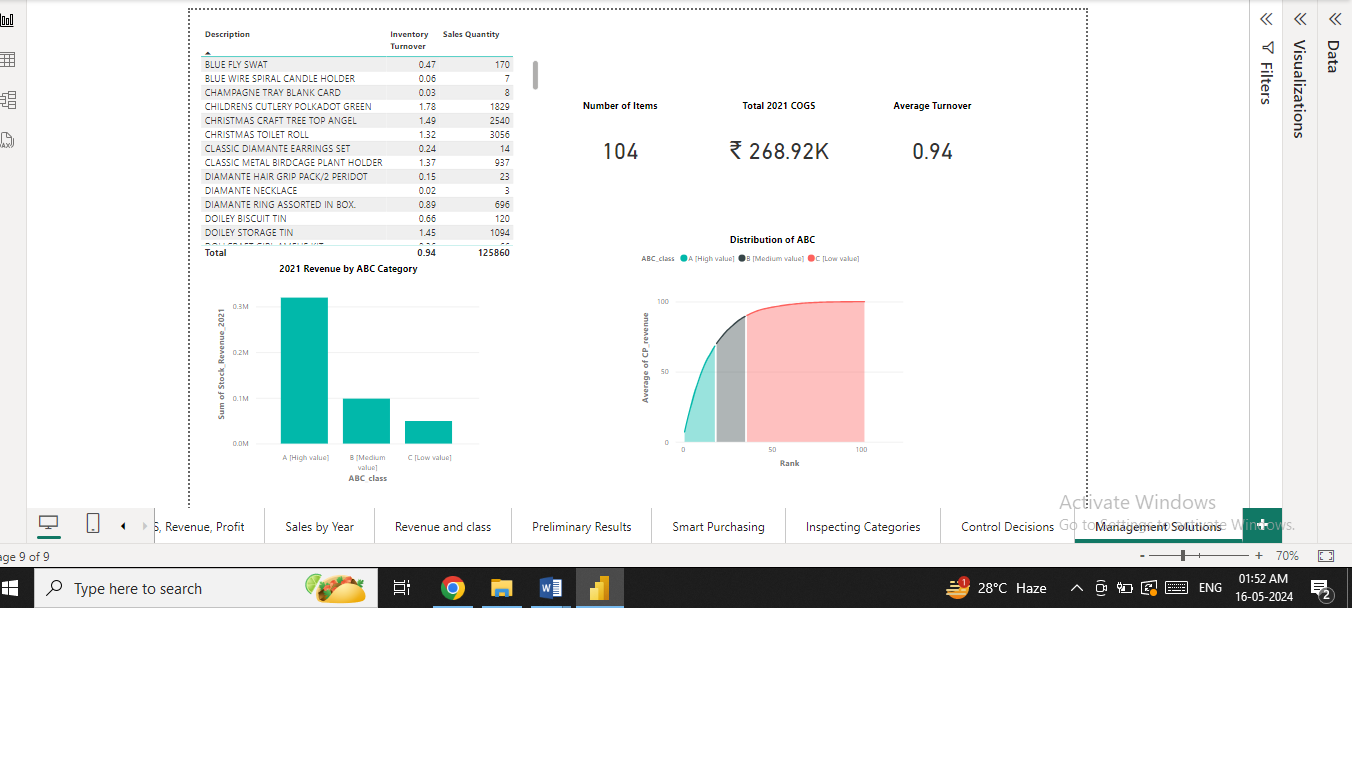

This screenshot's page, from the dashboard's own definition file:
{"tool":"powerbi","page":{"name":"Management Solutions","canvas":[1280,720],"ordinal":8},"visuals":[{"type":"tableEx","fields":{"Values":["Stock.Description","Avg(Turnover.Inventory_turnover)","Sum(Turnover.Stock_Quantity_2021)"]},"box":[10,20,492.9,340],"z":0},{"type":"clusteredColumnChart","title":"2021 Revenue by ABC Category","fields":{"Category":["ABC.ABC_class"],"Y":["Sum(ABC.Stock_Revenue_2021)"]},"box":[34.3,360,384.3,321.4],"z":1000},{"type":"card","title":"Number of Items","fields":{"Values":["CountNonNull(Stock.SKU-ID)"]},"box":[514.3,127.1,200,125.7],"z":2000},{"type":"card","title":"Total 2021 COGS","fields":{"Values":["Sum(Stock.TotalCOGS2021)"]},"box":[734.3,127.1,214.3,125.7],"z":3000},{"type":"card","title":"Average Turnover","fields":{"Values":["Avg(Turnover.Inventory_turnover)"]},"box":[948.6,127.1,224.3,125.7],"z":4000},{"type":"stackedAreaChart","title":"Distribution of ABC","fields":{"Y":["Avg(ABC.CP_revenue)"],"Category":["ABC.Rank"],"Series":["ABC.ABC_class"]},"box":[640,318.6,384.3,340],"z":5000}]}

Visuals, with their boxes on the page's 1280x720 design canvas (x1, y1, x2, y2). These are canvas units, not pixel positions in the 1366x768 screenshot, which may show the page scaled, cropped or inside an application window:
tableEx - Stock.Description x Avg(Turnover.Inventory_turnover): <box>10,20,503,360</box>
"2021 Revenue by ABC Category" clusteredColumnChart: <box>34,360,419,681</box>
"Number of Items" card: <box>514,127,714,253</box>
"Total 2021 COGS" card: <box>734,127,949,253</box>
"Average Turnover" card: <box>949,127,1173,253</box>
"Distribution of ABC" stackedAreaChart: <box>640,319,1024,659</box>
